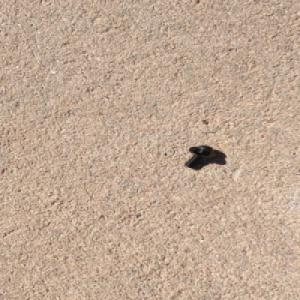BoltWasher: (183, 144, 217, 168)
